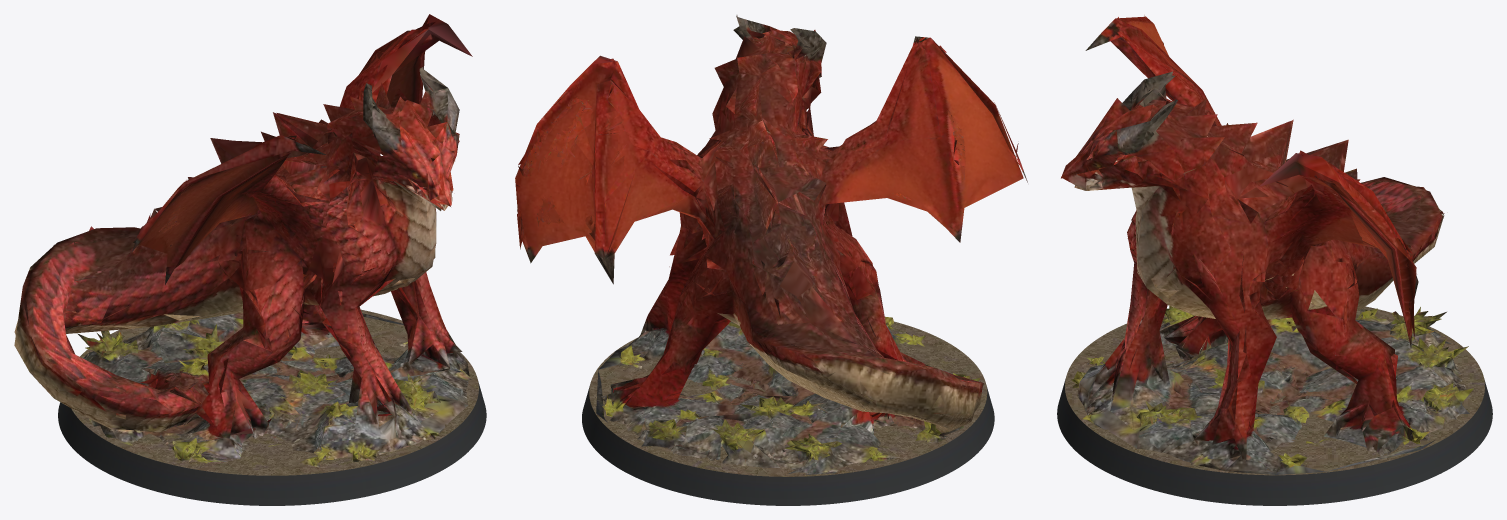
File: dragon.glb
The picture shows the model from 3 angles, left to right: view 1: azimuth 30°, elevation 25°; view 2: azimuth 150°, elevation 25°; view 3: azimuth 270°, elevation 25°; orthographic projection. The views are drawn at different scales.
Size of the model in its own units: 1.26 by 1 by 1.08.
Materials: 3 (3 with a texture image).
